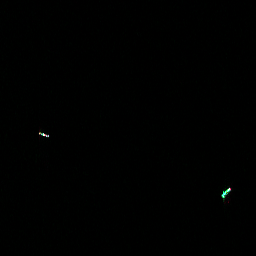ship: (219, 185, 232, 199), (36, 129, 51, 140)
